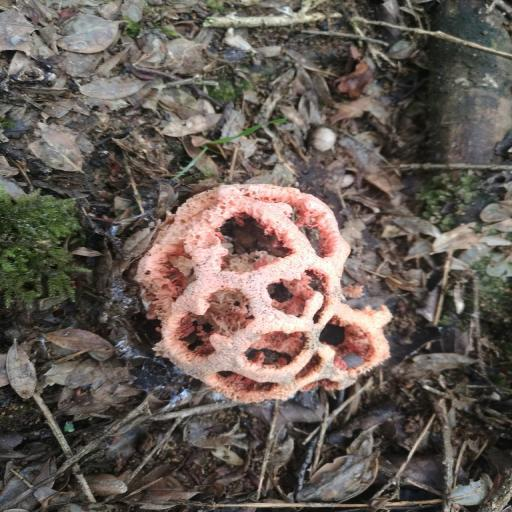mushroom: (136, 179, 390, 404)
